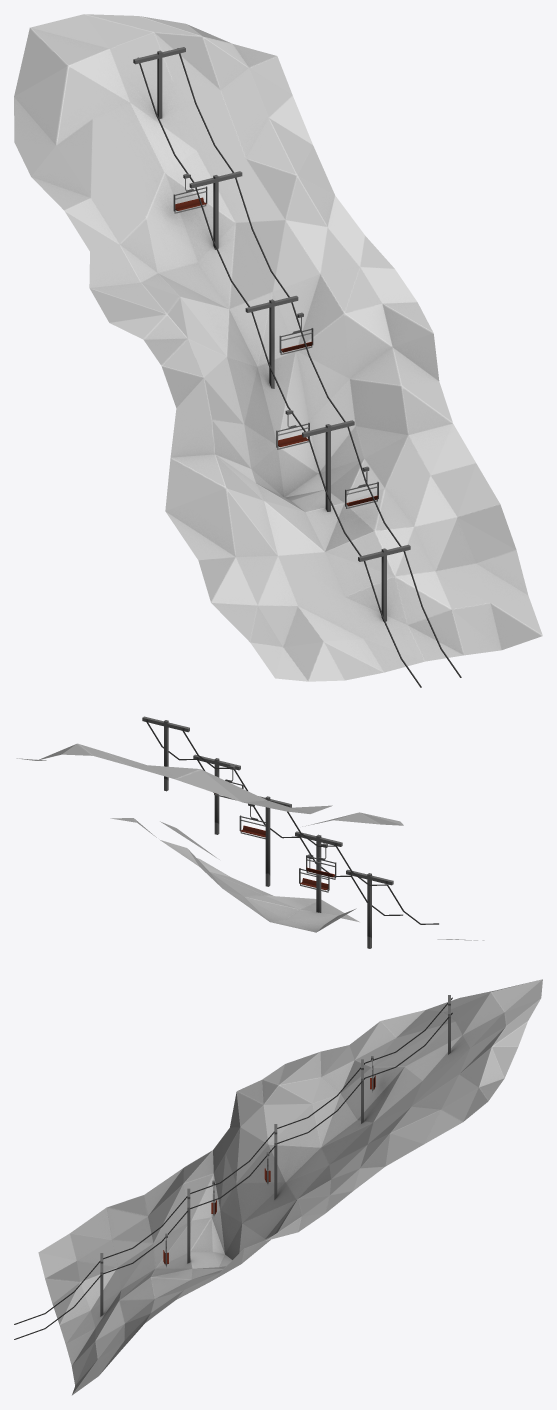
3 views of the same model, one above another, from view 1: azimuth 30°, elevation 25°; view 2: azimuth 150°, elevation 25°; view 3: azimuth 270°, elevation 25° (orthographic). The views are drawn at different scales.
Parts seen in each view (by area): view 1: Chairlift_mesh; view 2: Chairlift_mesh; view 3: Chairlift_mesh.
Boxes of the visible parts, <box> form: Chairlift_mesh: <box>14,14,542,687</box>; Chairlift_mesh: <box>16,716,484,948</box>; Chairlift_mesh: <box>14,979,542,1395</box>.
Bounding box in the file's own units: 19.14 × 24.69 × 34.27.
Materials: 1 (1 with a texture image).
